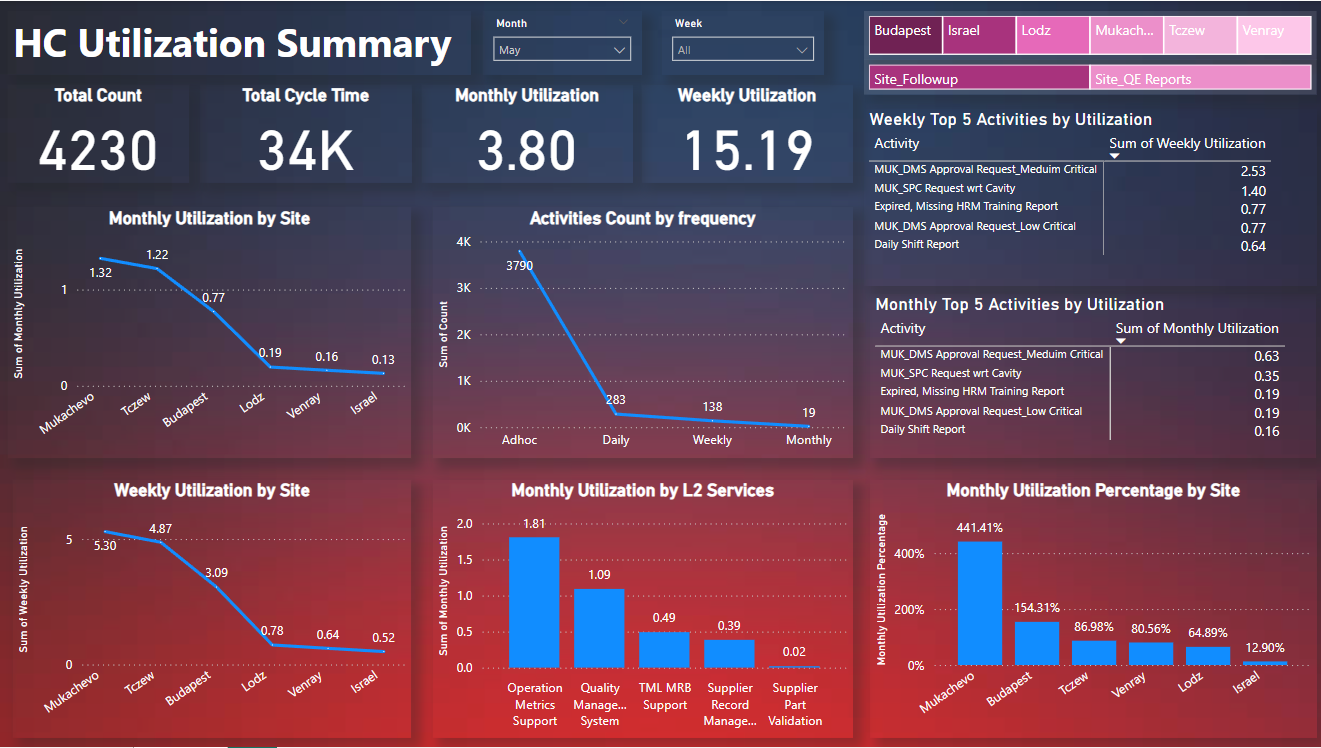

Layout of this report page (visuals, bound fields, positions):
{"tool":"powerbi","page":{"name":"Page 1","canvas":[1280,720],"ordinal":0},"visuals":[{"type":"textbox","box":[8.4,9.7,447.6,61.5],"z":0},{"type":"card","title":"Total Count","fields":{"Values":["Sum(EMEA.Count)"]},"box":[8.4,80.8,174.9,94.1],"z":1000},{"type":"card","title":"Total Cycle Time","fields":{"Values":["Sum(EMEA.Total Cycle Time)"]},"box":[194.2,80.8,203.9,94.1],"z":2000},{"type":"treemap","fields":{"Details":["EMEA.Site"],"Values":["Count(EMEA.Status)"]},"box":[834.9,9.7,436.7,47.1],"z":3000},{"type":"slicer","fields":{"Values":["EMEA.Month"]},"box":[466.9,9.7,153.2,61.5],"z":4000},{"type":"slicer","fields":{"Values":["EMEA.Week"]},"box":[639.4,9.7,156.8,61.5],"z":5000},{"type":"card","title":"Monthly Utilization","fields":{"Values":["Sum(EMEA.Monthly Utilization)"]},"box":[407.8,80.8,203.9,94.1],"z":6000},{"type":"card","title":"Weekly Utilization","fields":{"Values":["Sum(EMEA.Weekly Utilization)"]},"box":[620.1,80.8,203.9,94.1],"z":7000},{"type":"lineChart","title":"Monthly Utilization by Site","fields":{"Category":["EMEA.Site"],"Y":["Sum(EMEA.Monthly Utilization)"]},"box":[8.4,199.1,389.7,242.5],"z":8000},{"type":"lineChart","title":"Weekly Utilization by Site","fields":{"Category":["EMEA.Site"],"Y":["Sum(EMEA.Weekly Utilization)"]},"box":[13.3,462.1,384.9,248.5],"z":9000},{"type":"lineChart","title":"Activities Count by frequency","fields":{"Y":["Sum(EMEA.Count)"],"Category":["EMEA.Frequency"]},"box":[418.6,199.1,405.4,242.5],"z":10000},{"type":"treemap","fields":{"Values":["Count(EMEA.Status)"],"Details":["EMEA.Sub category"]},"box":[834.9,56.7,436.7,33.8],"z":11000},{"type":"pivotTable","title":"Weekly Top 5 Activities by Utilization","fields":{"Rows":["EMEA.Activity"],"Values":["Sum(EMEA.Weekly Utilization)"]},"box":[834.9,103.8,436.7,171.3],"z":12000},{"type":"pivotTable","title":"Monthly Top 5 Activities by Utilization ","fields":{"Rows":["EMEA.Activity"],"Values":["Sum(EMEA.Monthly Utilization)"]},"box":[840.9,282.3,430.7,159.3],"z":13000},{"type":"columnChart","title":"Monthly Utilization by L2 Services","fields":{"Y":["Sum(EMEA.Monthly Utilization)"],"Category":["EMEA.L2 Services"]},"box":[418.6,462.1,405.4,248.5],"z":14000},{"type":"clusteredColumnChart","fields":{"Y":["EMEA.Monthly Utilization Percentage"],"Category":["EMEA.Site"]},"box":[841,462,431,249],"z":15000}]}

Visuals, with their boxes in screenshot pixels (x1, y1, x2, y2), scaled from the page's 1280x720 canvas onto the 1321x748 screenshot:
textbox: <box>9,10,471,74</box>
"Total Count" card: <box>9,84,189,182</box>
"Total Cycle Time" card: <box>200,84,411,182</box>
treemap - EMEA.Site x Count(EMEA.Status): <box>862,10,1312,59</box>
slicer - EMEA.Month: <box>482,10,640,74</box>
slicer - EMEA.Week: <box>660,10,822,74</box>
"Monthly Utilization" card: <box>421,84,631,182</box>
"Weekly Utilization" card: <box>640,84,850,182</box>
"Monthly Utilization by Site" lineChart: <box>9,207,411,459</box>
"Weekly Utilization by Site" lineChart: <box>14,480,411,738</box>
"Activities Count by frequency" lineChart: <box>432,207,850,459</box>
treemap - Count(EMEA.Status) x EMEA.Sub category: <box>862,59,1312,94</box>
"Weekly Top 5 Activities by Utilization" pivotTable: <box>862,108,1312,286</box>
"Monthly Top 5 Activities by Utilization " pivotTable: <box>868,293,1312,459</box>
"Monthly Utilization by L2 Services" columnChart: <box>432,480,850,738</box>
clusteredColumnChart - EMEA.Monthly Utilization Percentage x EMEA.Site: <box>868,480,1313,739</box>
